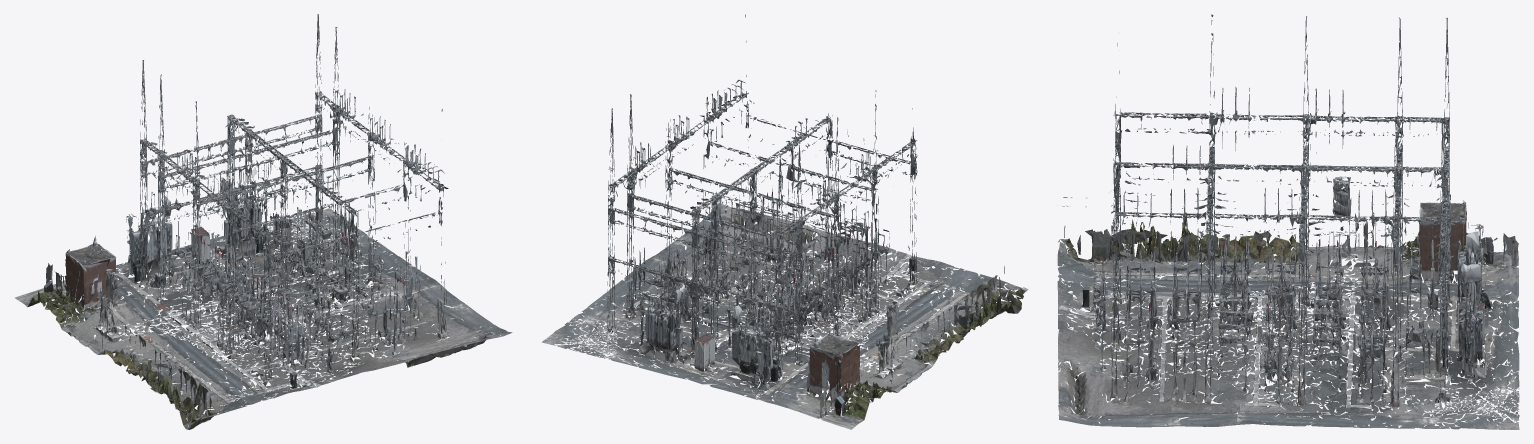
File: wapda.glb
3 renders of one model, left to right at view 1: azimuth 30°, elevation 25°; view 2: azimuth 150°, elevation 25°; view 3: azimuth 270°, elevation 25°, orthographic. The views are drawn at different scales.
Parts seen in each view (by area): view 1: Object_6; view 2: Object_6; view 3: Object_6.
Part boxes in pixels (box(x1,y1,x2,y2)): Object_6: box(14, 14, 512, 429); Object_6: box(541, 14, 1028, 429); Object_6: box(1057, 14, 1519, 429).
Size of the model in its own units: 20 by 15 by 20.
Materials: 2 (2 with a texture image).
